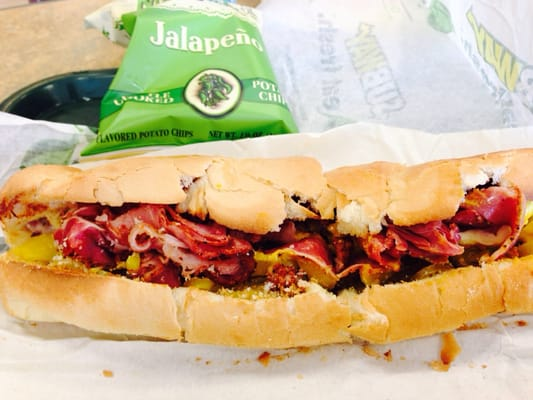soup: (1, 155, 346, 350), (324, 148, 533, 343)
